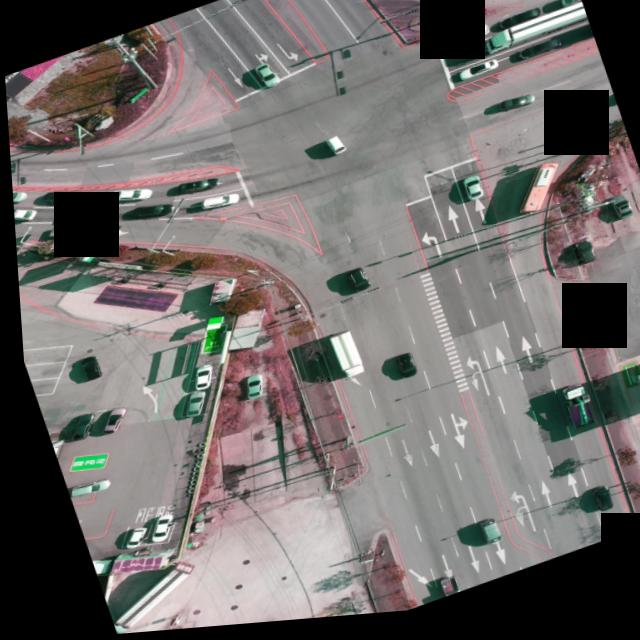car: (115, 198, 171, 231), (103, 179, 152, 212), (505, 46, 559, 72), (163, 177, 213, 205), (37, 184, 80, 214), (136, 516, 171, 547), (494, 13, 541, 36), (194, 191, 237, 216), (60, 476, 104, 500), (89, 406, 124, 436), (59, 412, 93, 442), (457, 64, 499, 87), (172, 391, 204, 421), (448, 30, 491, 52), (495, 98, 532, 120), (72, 352, 99, 382), (111, 527, 142, 553), (184, 366, 212, 394), (581, 493, 607, 523), (470, 525, 496, 554), (234, 375, 261, 402), (252, 65, 278, 93), (456, 181, 480, 209), (388, 356, 412, 384), (342, 272, 366, 299), (606, 205, 631, 230), (570, 249, 593, 273), (320, 139, 344, 162), (9, 180, 25, 209)
large_bus: (499, 169, 562, 226)
medium_truck: (96, 564, 199, 635), (487, 13, 588, 60), (320, 333, 358, 388), (552, 393, 586, 439)
small_truck: (57, 199, 109, 231), (47, 218, 90, 247), (10, 198, 37, 229), (428, 581, 450, 605), (556, 0, 581, 16)
